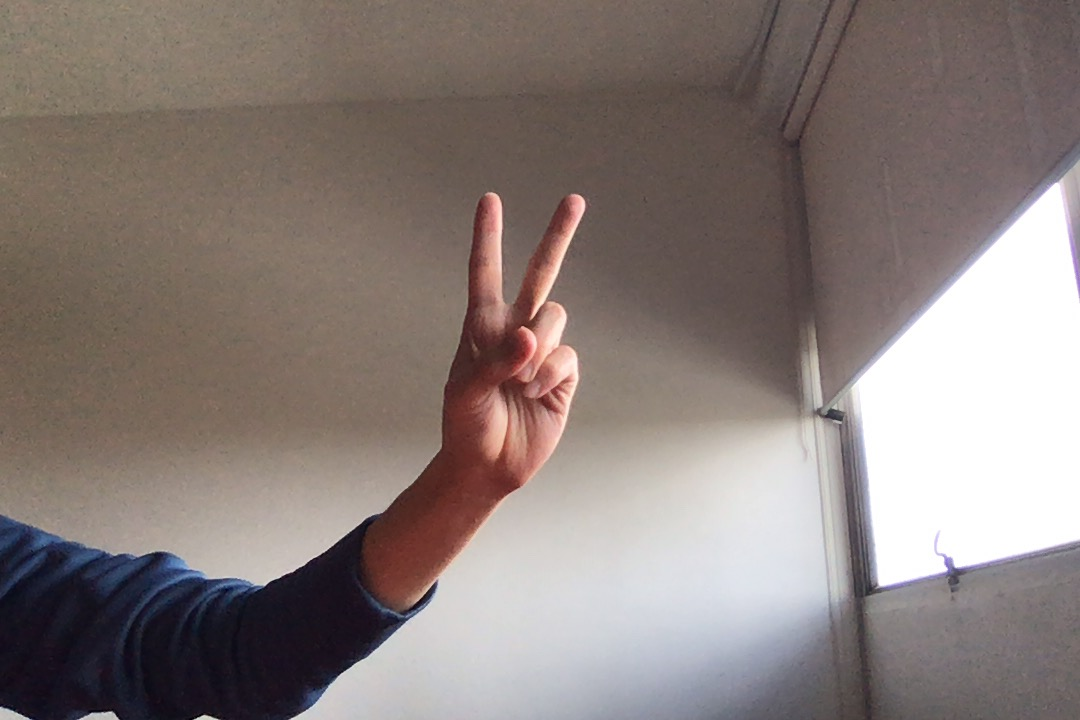peacesign: (430, 183, 596, 499)
